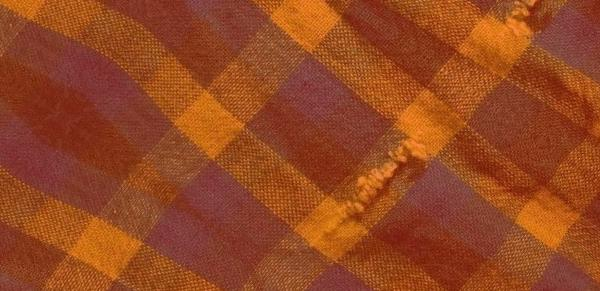knot: (308, 129, 436, 252), (509, 1, 546, 36)
